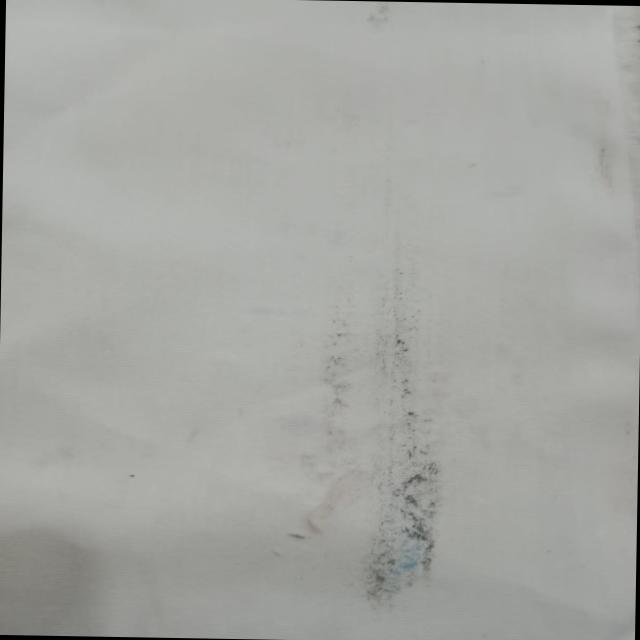stain: (288, 274, 456, 608)
